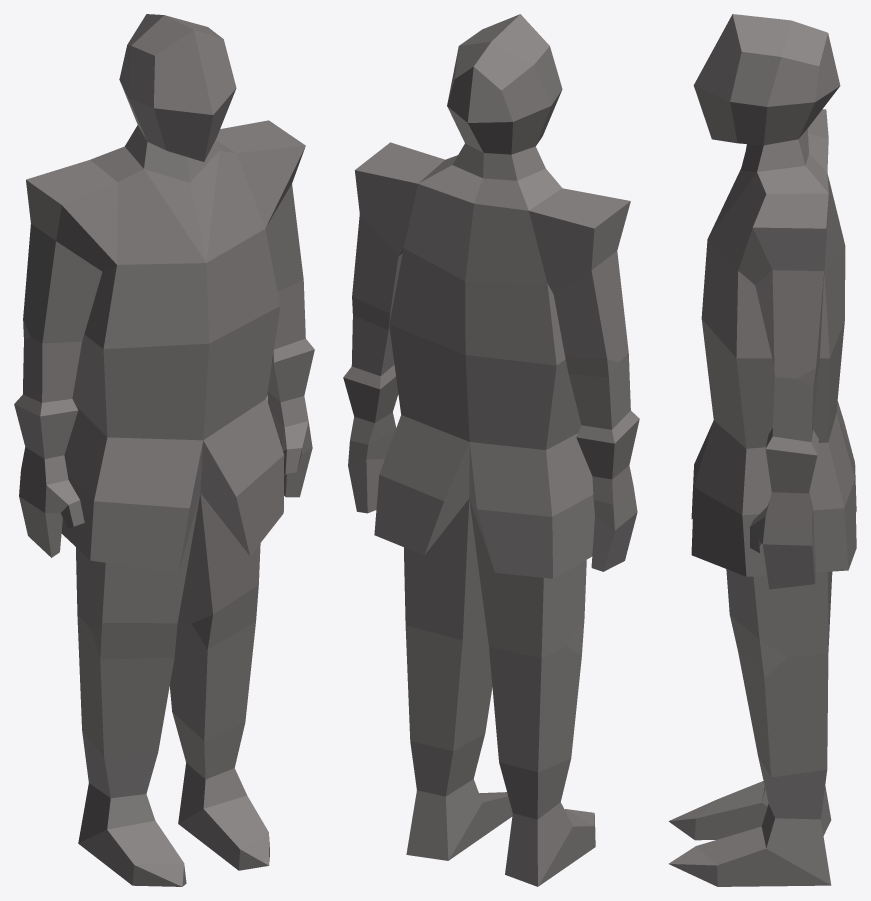
The model's file is man-knight.glb.
3 views of the same model, side by side, from view 1: azimuth 30°, elevation 25°; view 2: azimuth 150°, elevation 25°; view 3: azimuth 270°, elevation 25° (orthographic). The views are drawn at different scales.
Visible parts, largest first — view 1: man-knight; view 2: man-knight; view 3: man-knight.
Boxes of the visible parts, x1=… form: man-knight: x1=14, y1=14, x2=314, y2=886; man-knight: x1=343, y1=14, x2=639, y2=886; man-knight: x1=668, y1=14, x2=856, y2=886.
Bounding box in the file's own units: 0.6317 × 1.83 × 0.3718.
1 material, 1 textured.
